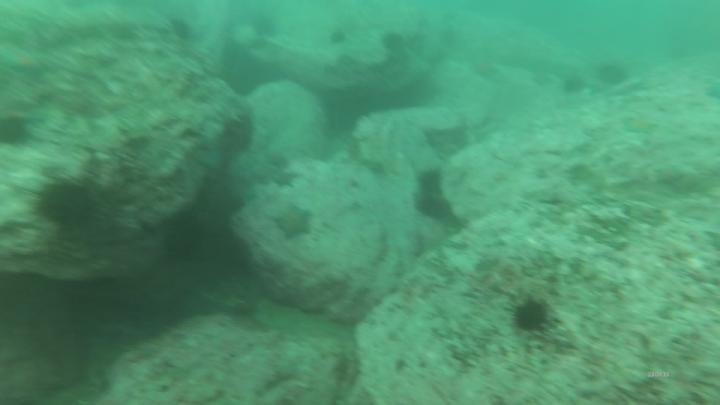echinus: (43, 184, 91, 230), (517, 303, 545, 331), (2, 118, 28, 143), (598, 65, 623, 81), (385, 35, 404, 49), (568, 76, 582, 95)
starfish: (277, 205, 312, 240)
